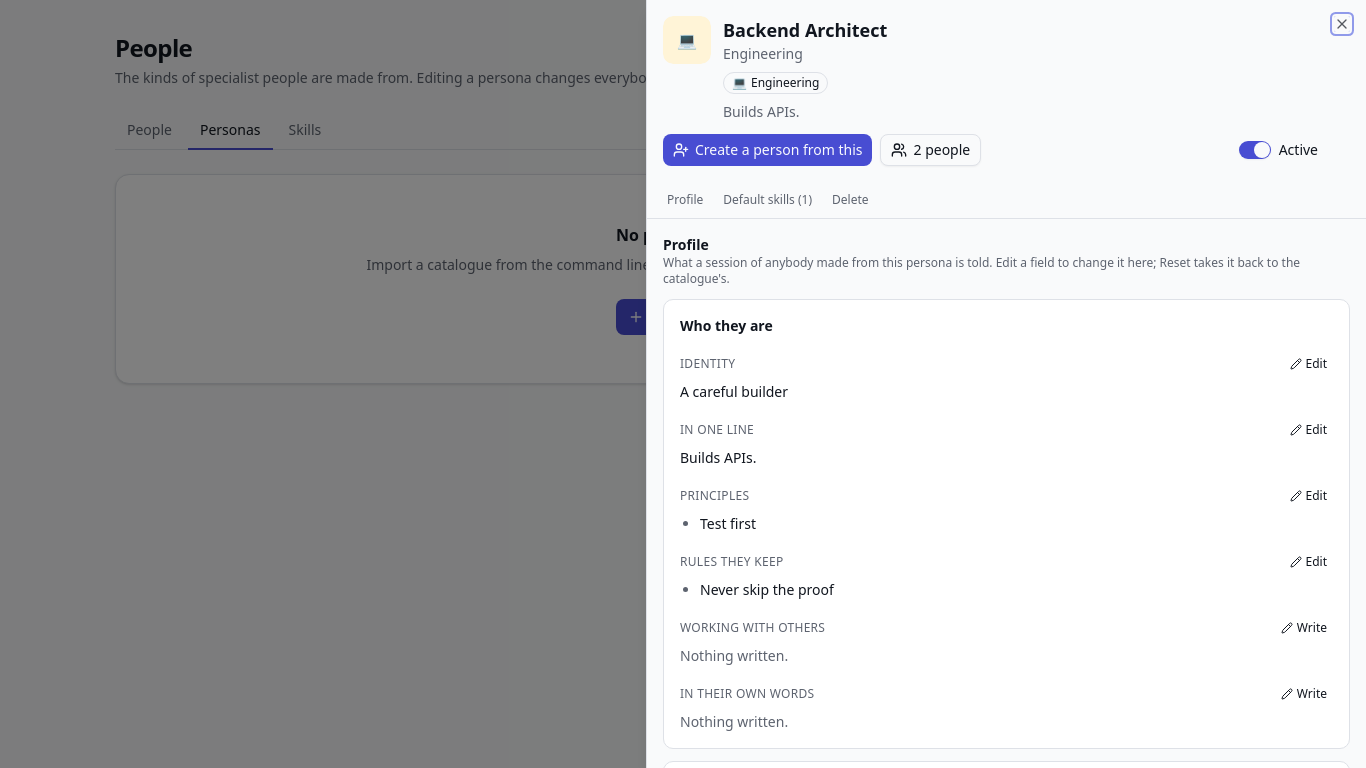
People: personas › narrows People to the persona's people
What coordinates should you click on to do the following:
click the button with test id "persona-show-people"
I would click on:
 (931, 150)
Its box is [880,134,981,166].
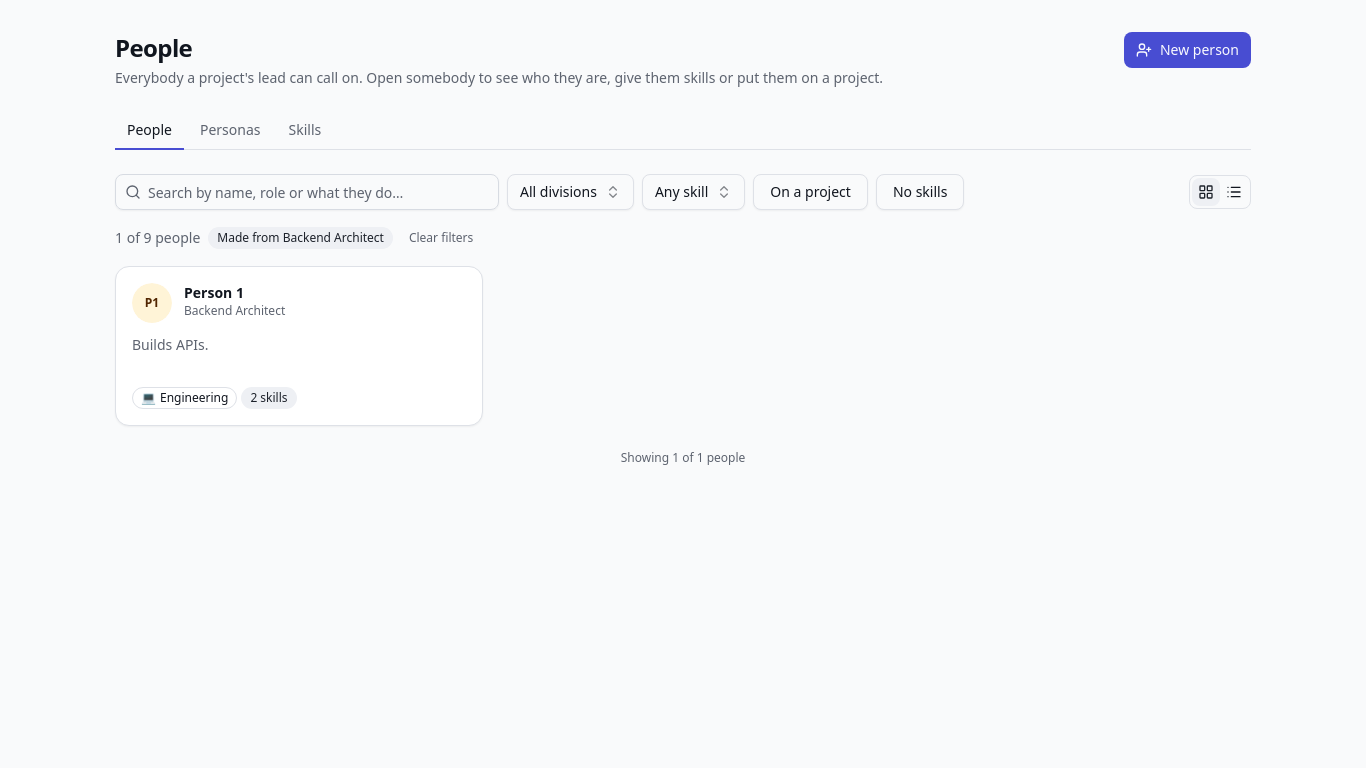
Check: the element with test id "people-filter-line" shows "Made from Backend Architect", box [115,226,481,250]
